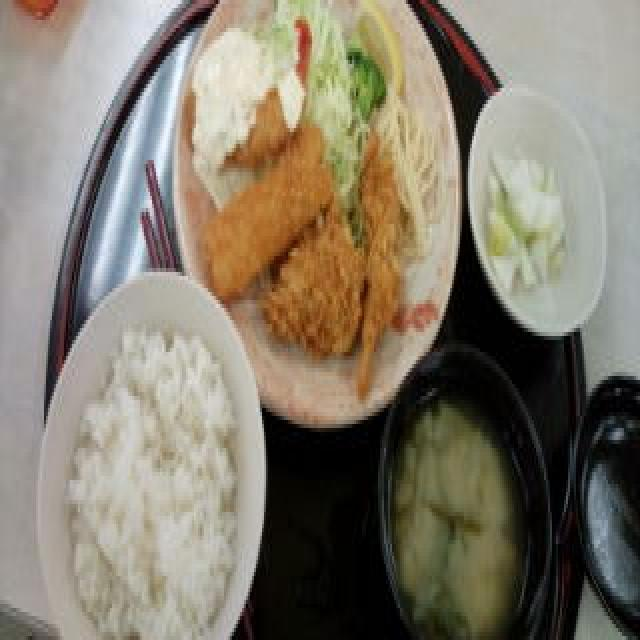Rice: (66, 331, 232, 640)
